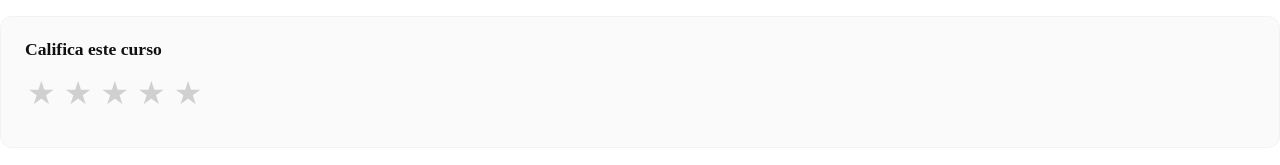
Test case: RatingSection › Navegación por teclado › actualiza el label al enfocar una estrella con el teclado
The width and height of the screenshot is (1280, 165).
Focus the button named "Calificar con 4 estrellas" at x=151, y=93, box [135, 75, 168, 111]
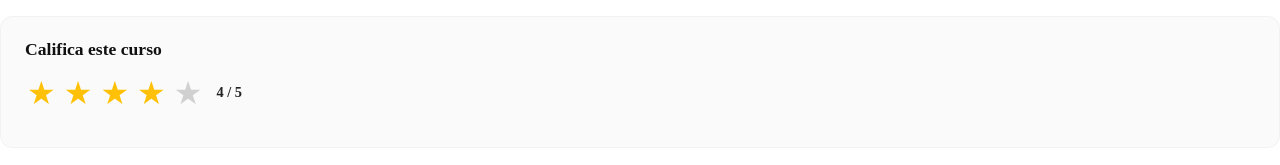
Check: the text "4 / 5" is shown, box [216, 85, 242, 100]
Leave the button named "Calificar con 4 estrellas", box [135, 75, 168, 111]
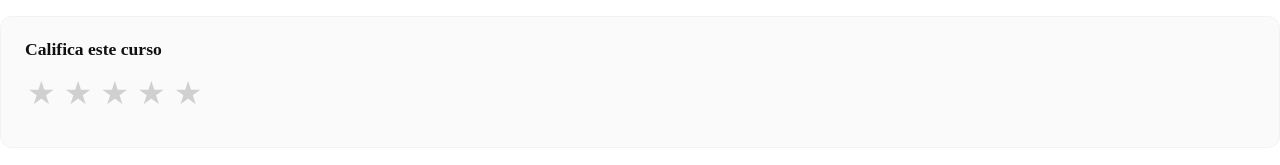
Check: the text "4 / 5" is gone
